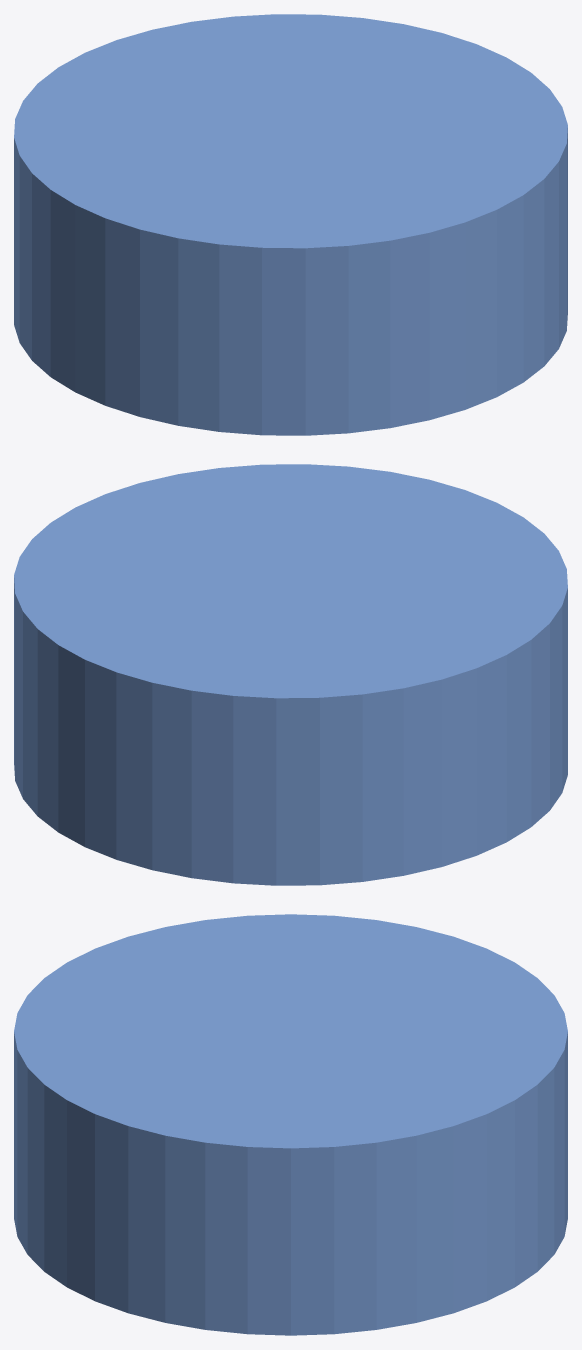
The model's file is rec_bottle_cap_0089.glb.
The picture shows the model from 3 angles, top to bottom: view 1: azimuth 30°, elevation 25°; view 2: azimuth 150°, elevation 25°; view 3: azimuth 270°, elevation 25°; orthographic projection.
Visible parts, largest first — view 1: z-up-to-y-up; view 2: z-up-to-y-up; view 3: z-up-to-y-up.
Boxes of the visible parts, bbox=[...] form: z-up-to-y-up: bbox=[14, 14, 567, 435]; z-up-to-y-up: bbox=[14, 464, 567, 885]; z-up-to-y-up: bbox=[14, 914, 567, 1335].
Bounding box in the file's own units: 0.0296 × 0.011 × 0.0296.
